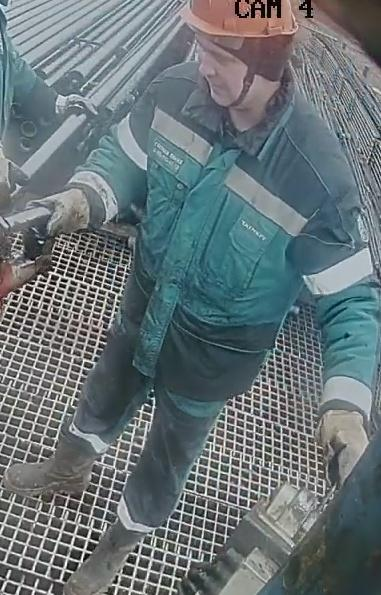gloves: (314, 406, 370, 488), (25, 187, 90, 238)
helmet: (176, 0, 300, 42)
vest: (116, 64, 369, 402)
